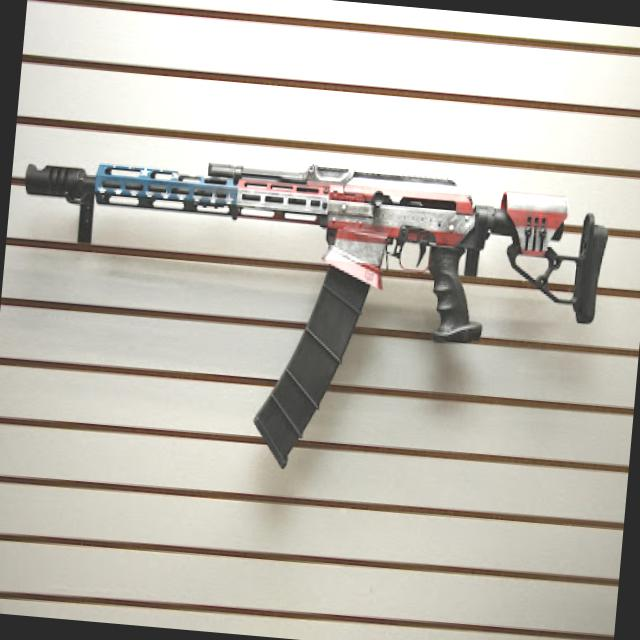long weapon: (7, 107, 626, 361)
